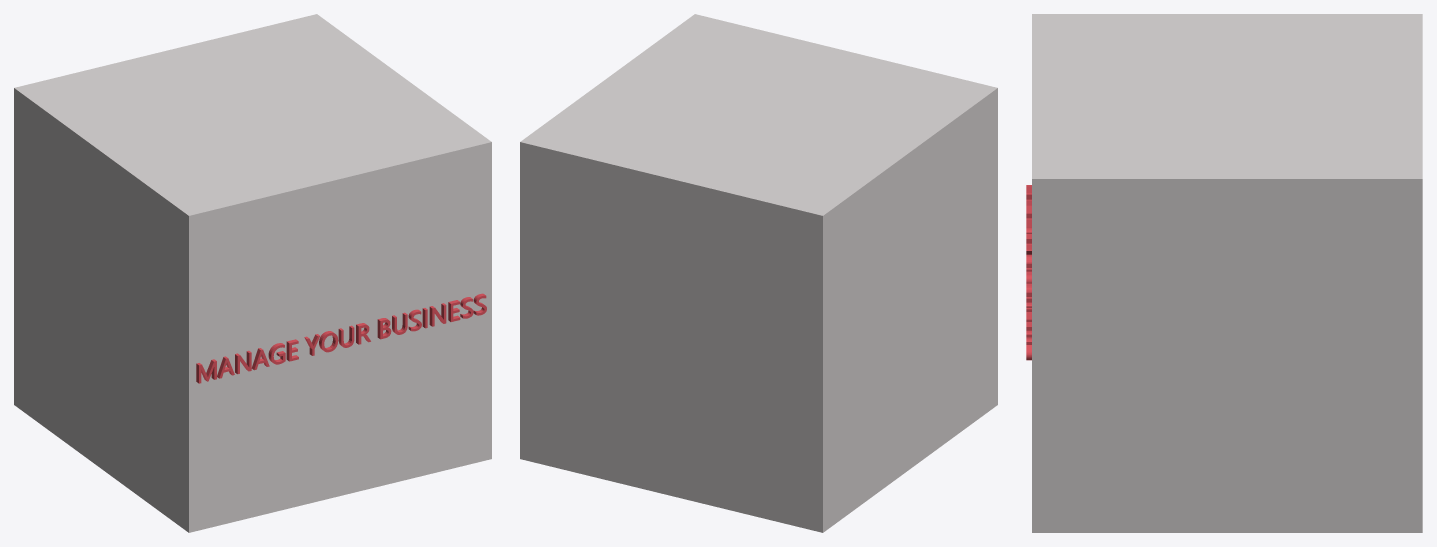
File: manage.glb
3 views of the same model, side by side, from view 1: azimuth 30°, elevation 25°; view 2: azimuth 150°, elevation 25°; view 3: azimuth 270°, elevation 25° (orthographic). The views are drawn at different scales.
Bounding box in the file's own units: 0.2 × 0.2 × 0.203.
